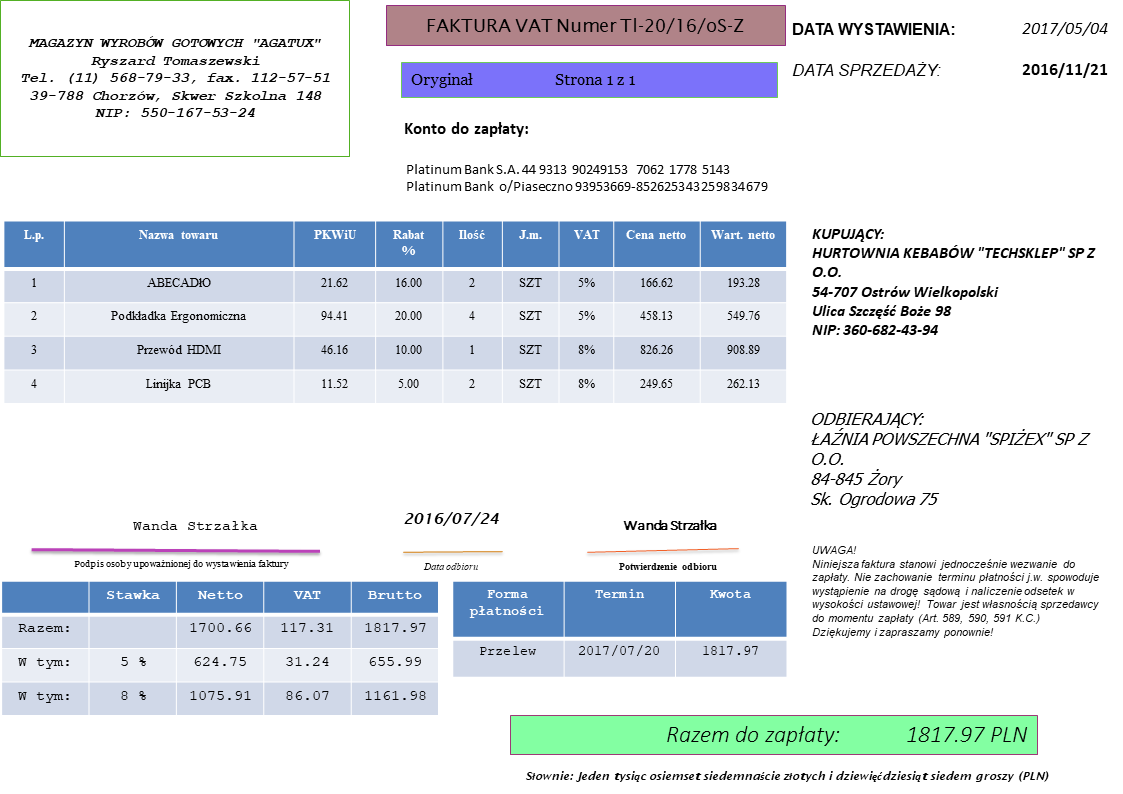Table: (3, 220, 786, 404), (1, 581, 438, 717), (452, 580, 788, 678)
TextBox: (808, 225, 1098, 340), (809, 406, 1094, 511), (809, 542, 1104, 641), (17, 33, 334, 122), (404, 160, 770, 197), (662, 722, 1030, 747), (523, 768, 1052, 784), (423, 14, 747, 36), (408, 69, 638, 92), (790, 19, 956, 39), (71, 557, 291, 572), (791, 60, 942, 80), (402, 119, 531, 140), (129, 517, 260, 533), (401, 509, 501, 528), (1020, 19, 1111, 38), (621, 517, 719, 534), (1021, 61, 1108, 79), (616, 559, 719, 574), (421, 560, 480, 574)
